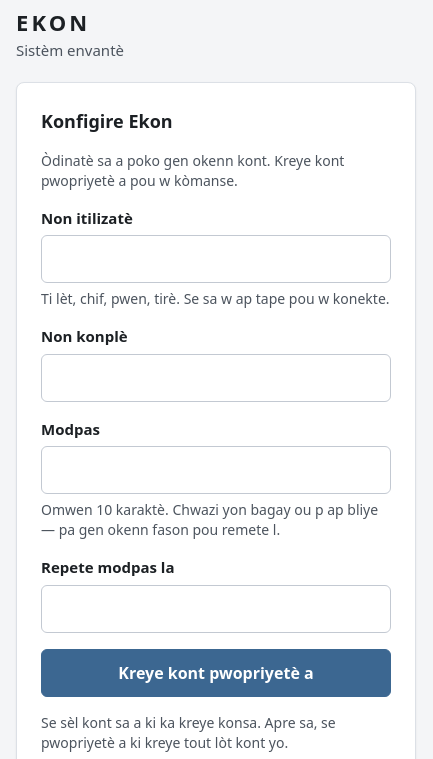
it: first-run setup › what the form checks before sending anything › refuses two passwords that do not match, without a round trip
Check: the heading "Konfigire Ekon" is shown, box x1=41 y1=108 x2=173 y2=132
Type "marie.j" into the field labelled "Non itilizatè". click: {"x": 216, "y": 259}
box: x1=41 y1=235 x2=391 y2=283
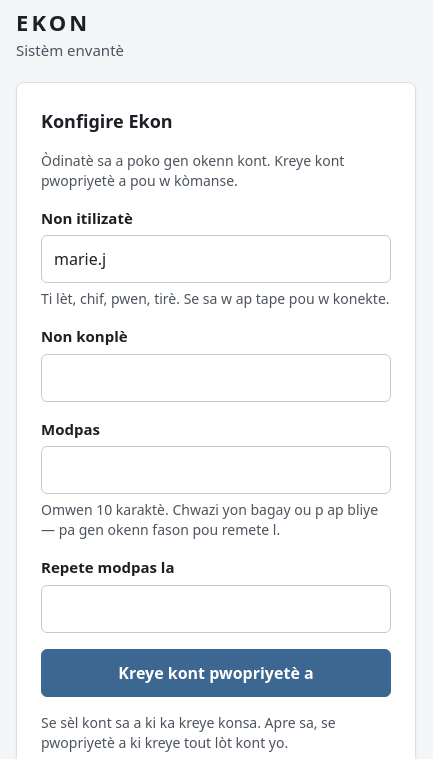
Type "Marie Joseph" into the field labelled "Non konplè". click: {"x": 216, "y": 378}
box: x1=41 y1=354 x2=391 y2=402
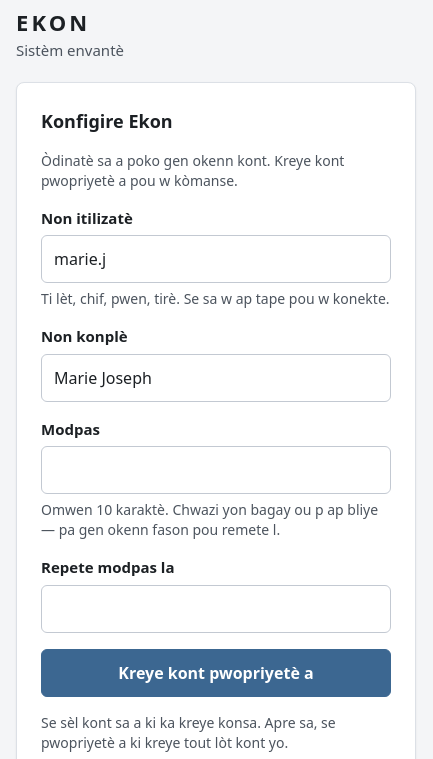
Type "correct horse battery staple" into the password field labelled "Modpas". click: {"x": 216, "y": 470}
box: x1=41 y1=446 x2=391 y2=494
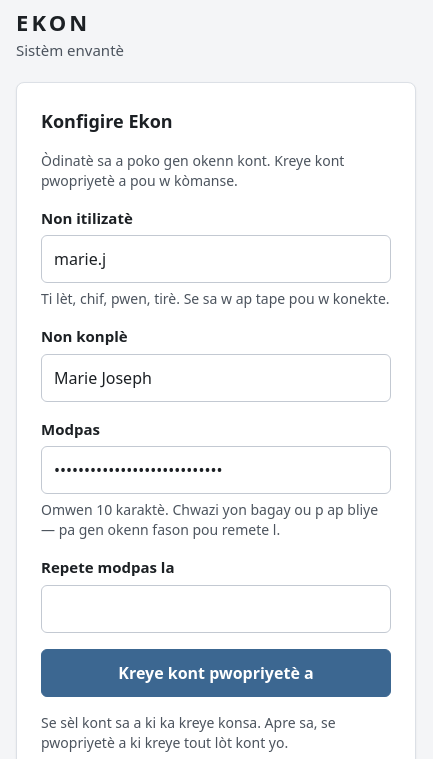
Type "something else entirely" into the password field labelled "Repete modpas la". click: {"x": 216, "y": 608}
box: x1=41 y1=584 x2=391 y2=632
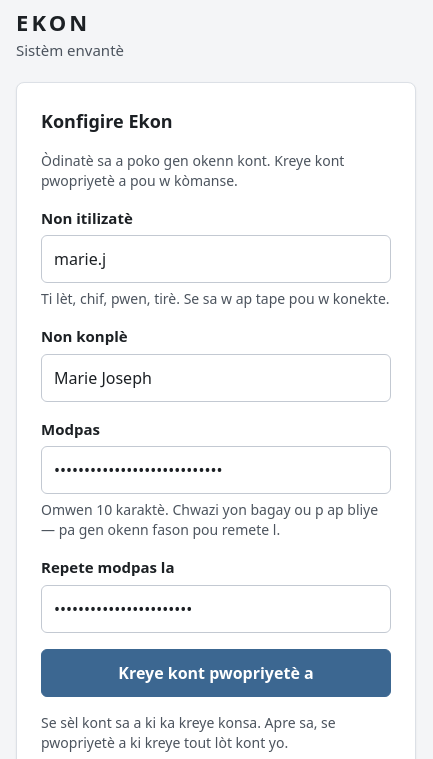
Click the button "Kreye kont pwopriyetè a". click: {"x": 216, "y": 672}
box: x1=41 y1=648 x2=391 y2=696
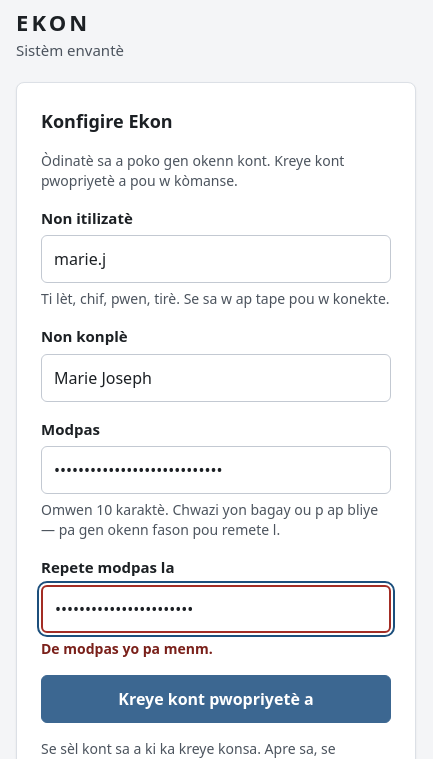
Check: the text "De modpas yo pa menm." is shown, box x1=41 y1=638 x2=213 y2=658
